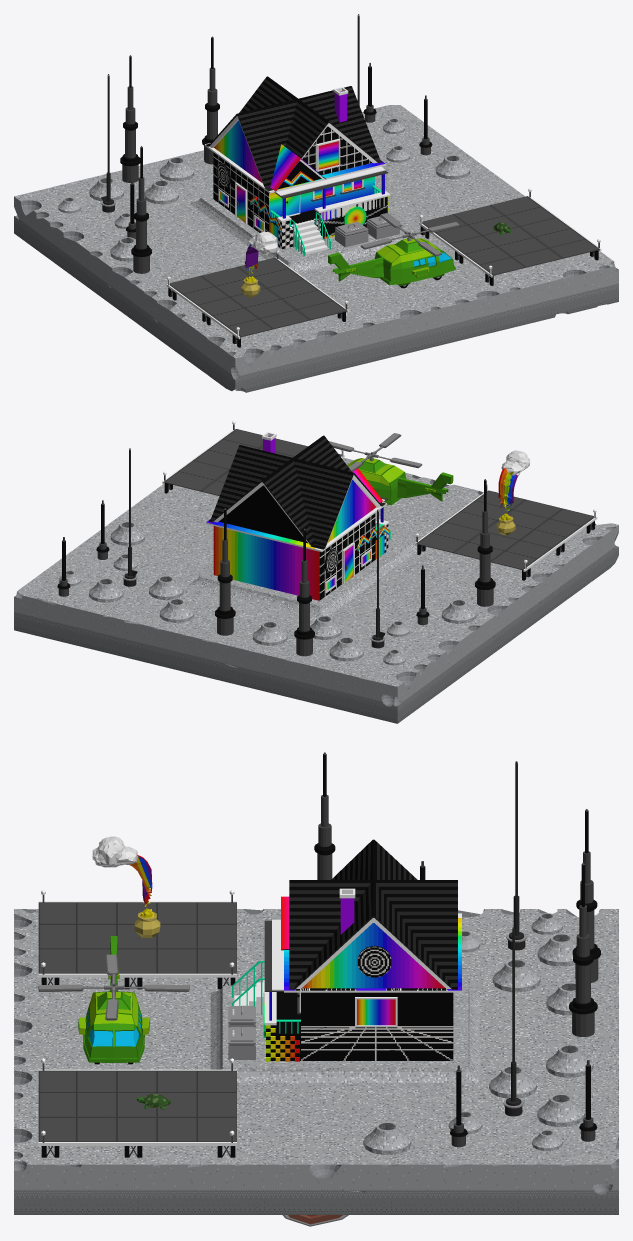
3 renders of one model, top to bottom at view 1: azimuth 30°, elevation 25°; view 2: azimuth 150°, elevation 25°; view 3: azimuth 270°, elevation 25°, orthographic. The views are drawn at different scales.
Visible parts, largest first — view 1: Cube.027, Cube.1320, Cube.026, Cube.025, VEHICLES_HELICOPTER, Cube.028, Cylinder.021, Cylinder.020, OBJRANDOM_RAINBOW, Cylinder.017, Cube.029, Cylinder.027 (+5 smaller); view 2: Cube.027, Cube.1320, Cube.025, Cube.028, Cube.026, VEHICLES_HELICOPTER, OBJRANDOM_RAINBOW, Cylinder.020, Cylinder.017, Cylinder.021, Cylinder.029, Cylinder.025 (+8 smaller); view 3: Cube.027, Cube.1320, Cube.026, Cube.025, Cube.028, VEHICLES_HELICOPTER, Cylinder.017, OBJRANDOM_RAINBOW, Cylinder.020, Cylinder.021, Cylinder.033, Cylinder.031 (+10 smaller).
Part boxes in pixels (<box>): Cube.027: <box>14,105,618,392</box>; Cube.1320: <box>204,76,390,255</box>; Cube.026: <box>419,188,601,285</box>; Cube.025: <box>166,250,348,347</box>; VEHICLES_HELICOPTER: <box>328,213,459,288</box>; Cube.028: <box>190,194,418,272</box>; Cylinder.021: <box>131,146,151,273</box>; Cylinder.020: <box>120,55,140,182</box>; OBJRANDOM_RAINBOW: <box>241,231,278,297</box>; Cylinder.017: <box>202,36,219,164</box>; Cube.029: <box>335,221,368,247</box>; Cylinder.027: <box>159,157,194,181</box>; Cube.027: <box>14,458,618,723</box>; Cube.1320: <box>206,432,390,600</box>; Cube.025: <box>415,483,597,580</box>; Cube.028: <box>189,535,417,617</box>; Cube.026: <box>162,421,344,495</box>; VEHICLES_HELICOPTER: <box>329,433,453,505</box>; OBJRANDOM_RAINBOW: <box>496,450,529,535</box>; Cylinder.020: <box>294,528,314,656</box>; Cylinder.017: <box>215,508,235,635</box>; Cylinder.021: <box>475,479,495,606</box>; Cylinder.029: <box>159,598,194,622</box>; Cylinder.025: <box>441,599,476,623</box>; Cube.027: <box>14,909,618,1214</box>; Cube.1320: <box>232,839,461,1061</box>; Cube.026: <box>38,1058,236,1157</box>; Cube.025: <box>38,890,236,989</box>; Cube.028: <box>210,985,479,1082</box>; VEHICLES_HELICOPTER: <box>38,936,189,1064</box>; Cylinder.017: <box>569,862,597,1036</box>; OBJRANDOM_RAINBOW: <box>92,836,160,937</box>; Cylinder.020: <box>572,809,600,982</box>; Cylinder.021: <box>314,752,335,879</box>; Cylinder.033: <box>363,1122,411,1154</box>; Cylinder.031: <box>537,1094,584,1126</box>.
Bounding box in the file's own units: 4000 × 2515 × 4000.
44 materials, 6 textured.
